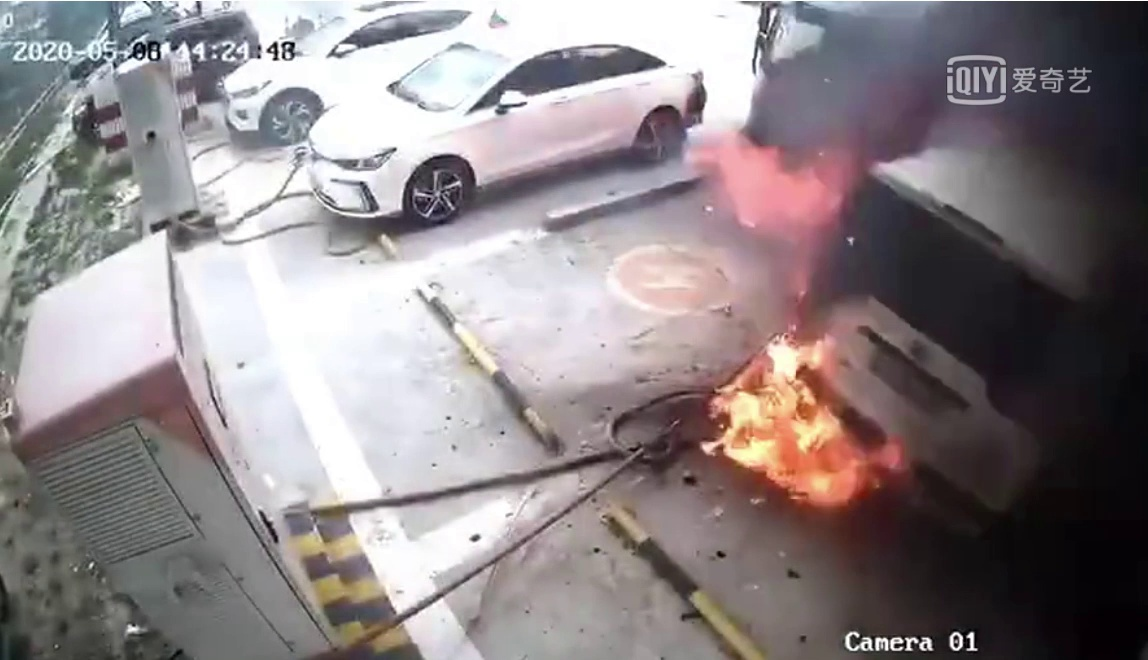fire: (706, 312, 907, 514), (713, 121, 856, 238)
